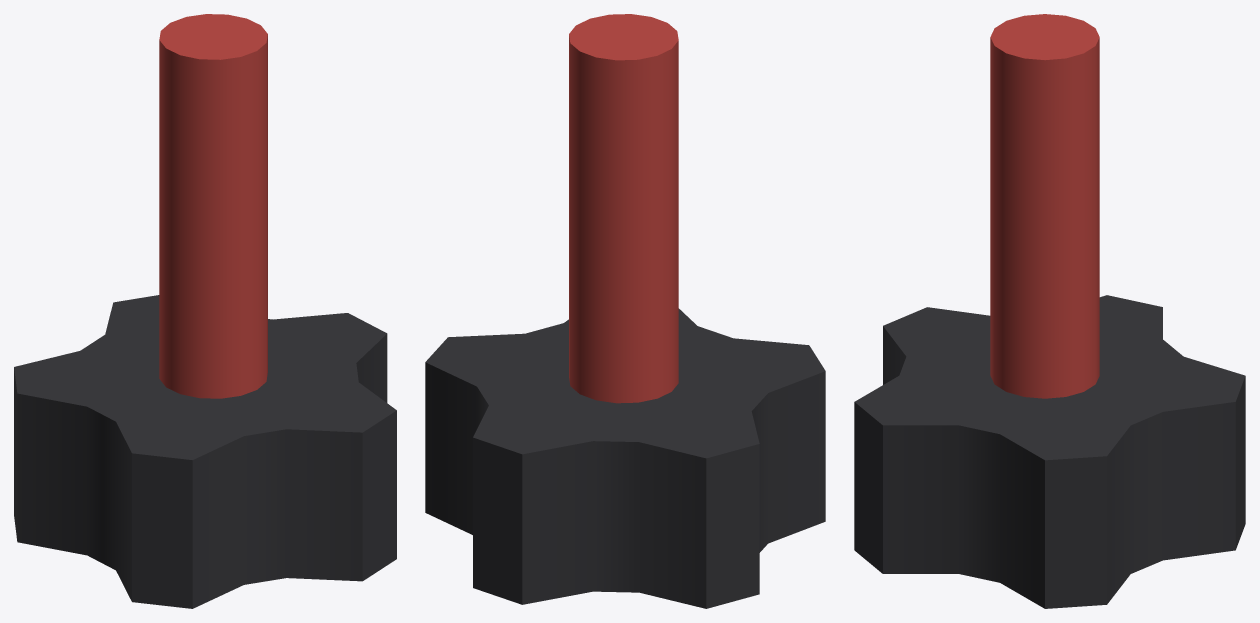
Rendered from friction.glb.
The picture shows the model from 3 angles, left to right: view 1: azimuth 30°, elevation 25°; view 2: azimuth 150°, elevation 25°; view 3: azimuth 270°, elevation 25°; orthographic projection.
Visible parts, largest first — view 1: lod0; view 2: lod0; view 3: lod0.
Boxes of the visible parts, x1,y1,x2,y2 form: lod0: (14,14,396,608); lod0: (425,14,825,608); lod0: (854,14,1245,608).
Size of what is drawn, in the model's own units: 0.0429 by 0.059 by 0.0429.
